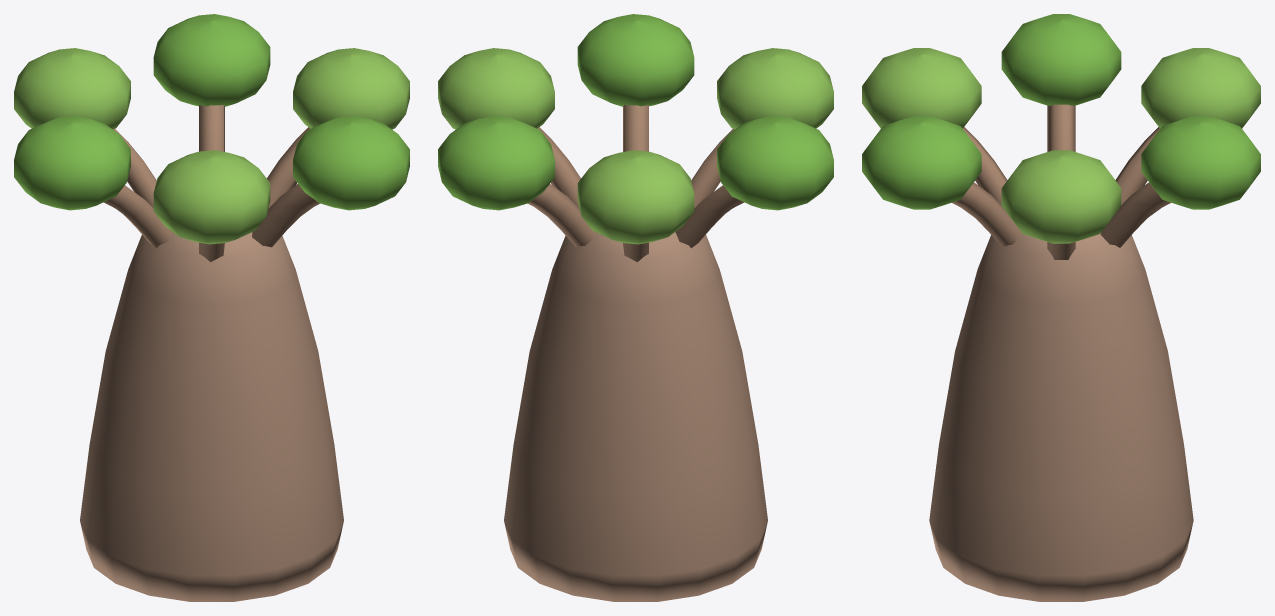
File: imbondeiro.glb
3 renders of one model, left to right at view 1: azimuth 30°, elevation 25°; view 2: azimuth 150°, elevation 25°; view 3: azimuth 270°, elevation 25°, orthographic.
Parts seen in each view (by area): view 1: imbondeiro_corpo; view 2: imbondeiro_corpo; view 3: imbondeiro_corpo.
Boxes of the visible parts, x1,y1,x2,y2 form: imbondeiro_corpo: (14,14,409,601); imbondeiro_corpo: (438,14,833,601); imbondeiro_corpo: (862,14,1260,601).
Size of the model in its own units: 6.76 by 7.88 by 6.18.
